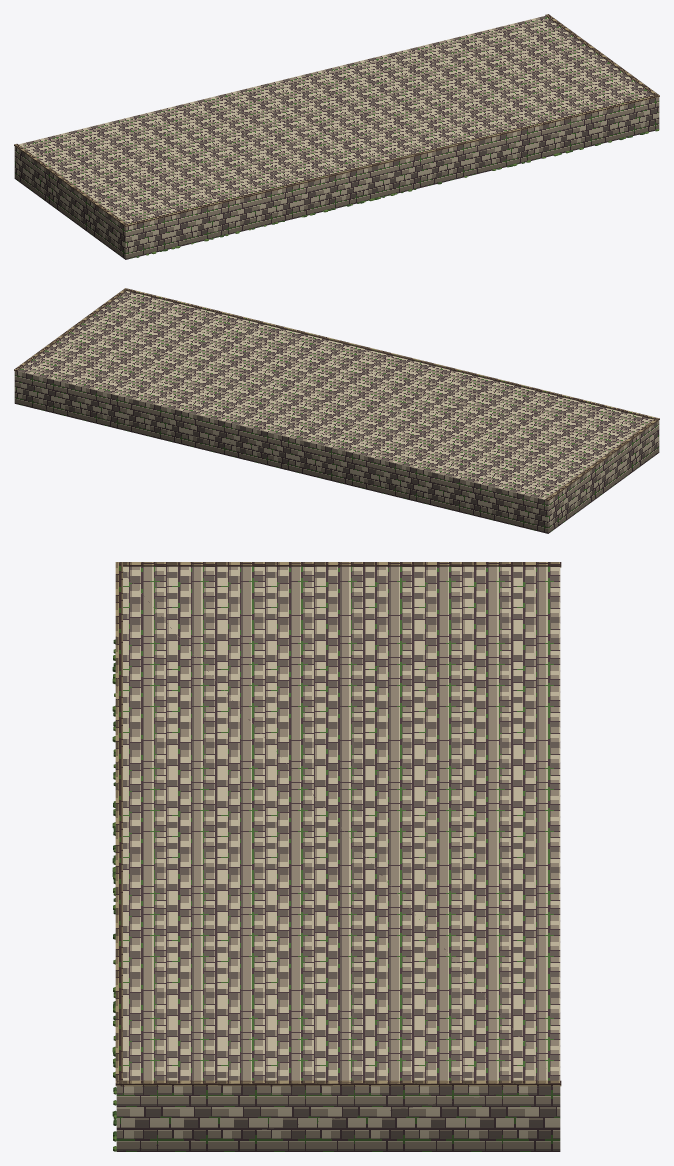
Rendered from scene_wall_n.glb.
3 views of the same model, one above another, from view 1: azimuth 30°, elevation 25°; view 2: azimuth 150°, elevation 25°; view 3: azimuth 270°, elevation 25° (orthographic). The views are drawn at different scales.
Parts seen in each view (by area): view 1: scene_wall_n; view 2: scene_wall_n; view 3: scene_wall_n.
Part boxes in pixels (left/top/right/bottom): scene_wall_n: left=14, top=14, right=659, bottom=259; scene_wall_n: left=14, top=288, right=659, bottom=533; scene_wall_n: left=112, top=562, right=561, bottom=1151.
Size of the model in its own units: 60.1 by 3.77 by 21.84.
2 materials, 1 textured.
